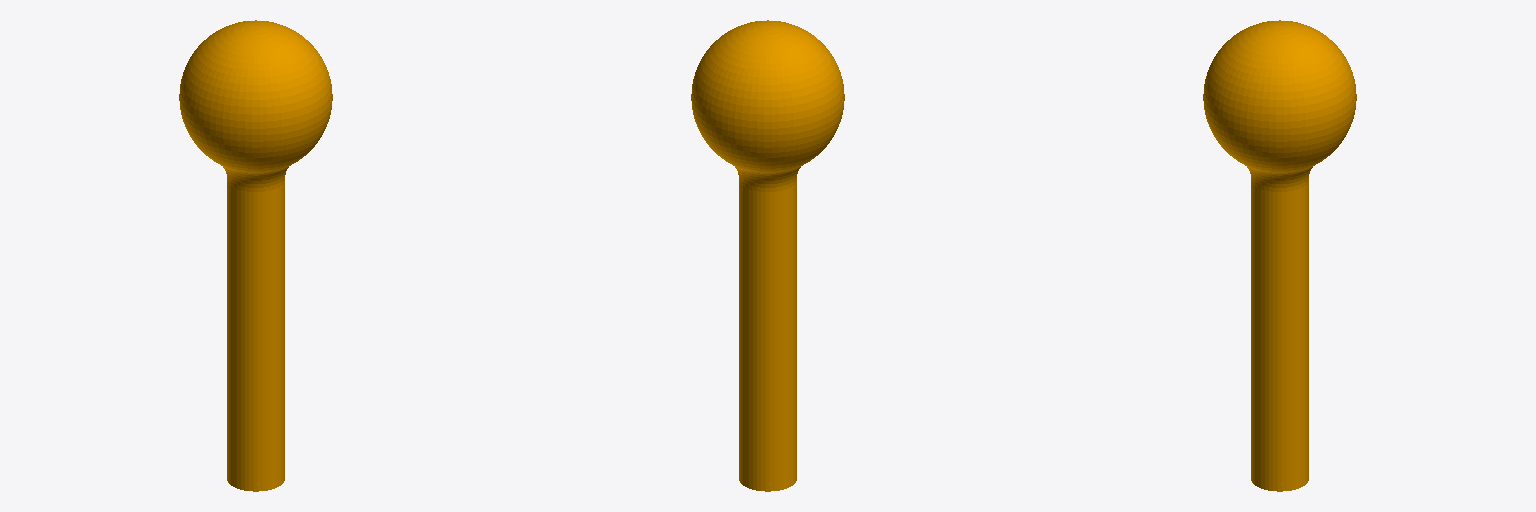
The robot description file, URDF, robot "benchmark_part_2":
<robot name="benchmark_part_2">
  <link name="base_link">
    <visual>
      <geometry>
        <mesh filename="benchmark_parts_stl/benchmark_part_2.stl" scale="0.001 0.001 0.001" />
      </geometry>
    <origin xyz="-0.4500000003843573 -5.436985133485935e-10 -0.08909510144834186" rpy="0 0 0" /></visual>
    <collision>
      <geometry>
        <mesh filename="benchmark_parts_stl/benchmark_part_2_vhacd.obj" scale="0.01 0.01 0.01" />
      </geometry>
    <origin xyz="-0.4500000003843573 -5.436985133485935e-10 -0.08909510144834186" rpy="0 0 0" /></collision>
    <inertial>
      <mass value="0.1" />
      <inertia ixx="0.001" ixy="0.0" ixz="0.0" iyy="0.001" iyz="0.0" izz="0.001" />
    </inertial>
  </link>
</robot>

--- What the picture shows (computed from the rendered views, not written in the file) ---
Views: 3 orthographic renders of the robot side by side, from view 1: azimuth 30°, elevation 25°; view 2: azimuth 150°, elevation 25°; view 3: azimuth 270°, elevation 25°.
Robot: benchmark_part_2 — 1 links, 0 joints (none); root link base_link; default pose: all joints at 0.
Visible links, largest first — view 1: base_link; view 2: base_link; view 3: base_link.
Link boxes in pixels (bbox=[...]): base_link: bbox=[179, 20, 332, 491]; base_link: bbox=[691, 20, 844, 491]; base_link: bbox=[1203, 20, 1356, 491].
Size in the robot's own frame: 0.04 by 0.04 by 0.13 metres.
Meshes: 1 distinct files referenced, 1 mesh visuals loaded (1 binary STL).